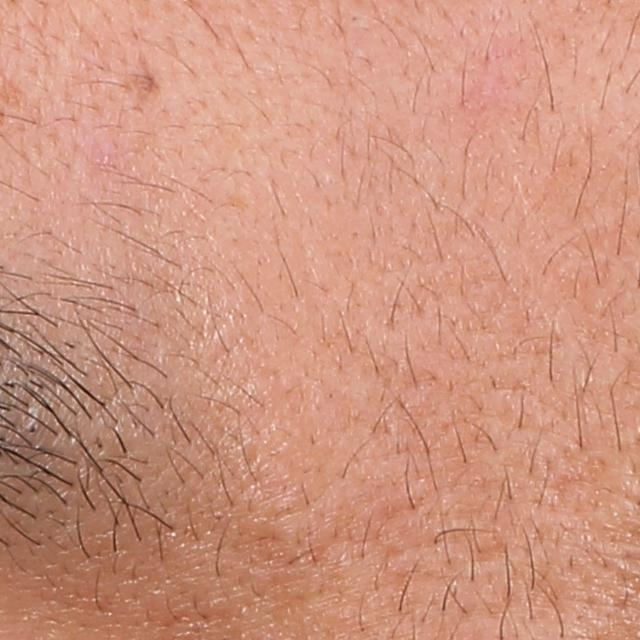melasma: (115, 57, 167, 117)
